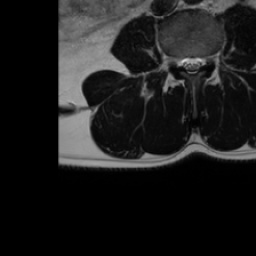CCS_stenosis: (188, 47, 195, 82)
LFS_normal: (202, 47, 211, 72)
LLS_normal: (195, 47, 202, 78)
RFS_normal: (171, 47, 180, 73)
RLS_normal: (180, 49, 188, 75)
